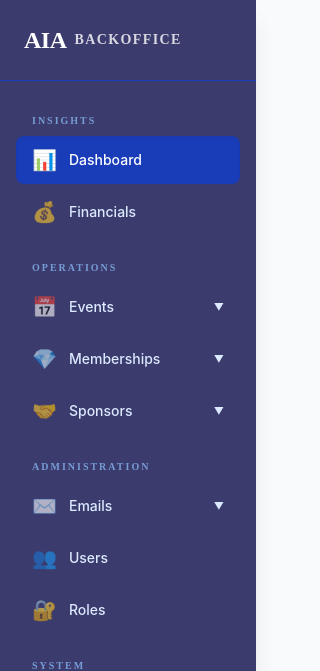
Scenario: Sidebar › toggles submenus
expect the text "All Events" is not shown: met
// Open Events submenu
Click the text "Events". click: (92, 307)
box: [69,297,114,317]
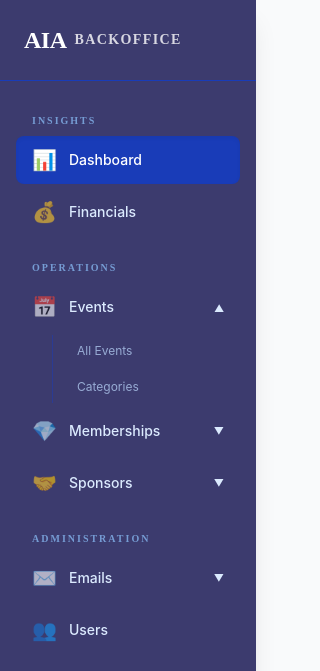
expect the link "All Events" is shown: met, box [77,343,132,358]
// Close Events submenu
Click the text "Events". click: (92, 307)
box: [69,297,114,317]
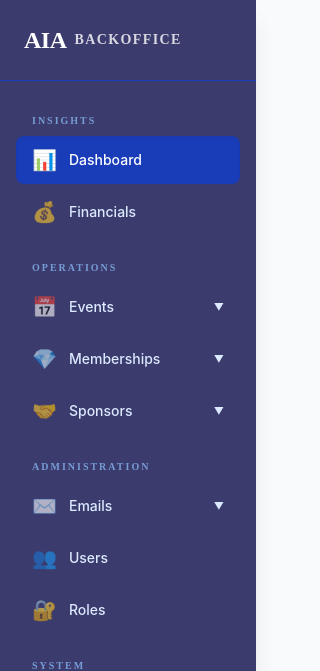
expect the link "All Events" is gone: met
